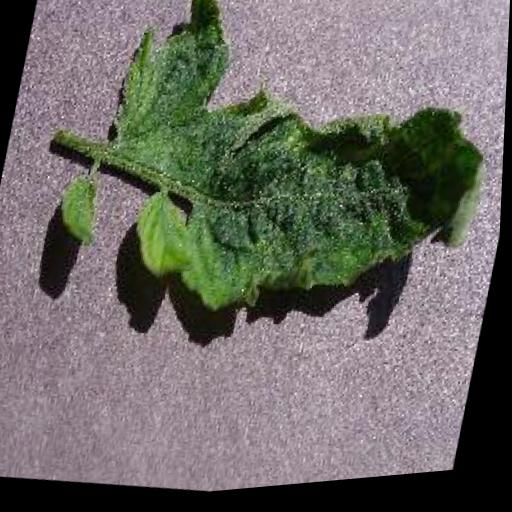Mosaic Virus: (76, 0, 512, 366)
